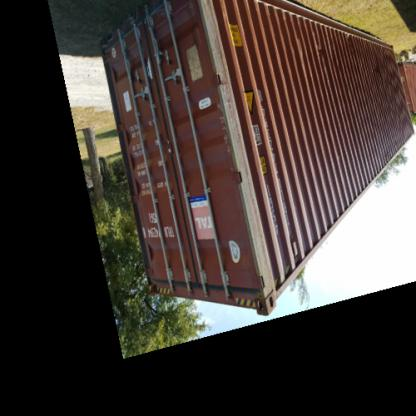Damage: (214, 102, 235, 158), (370, 58, 386, 82), (340, 32, 362, 49), (313, 42, 323, 68)
